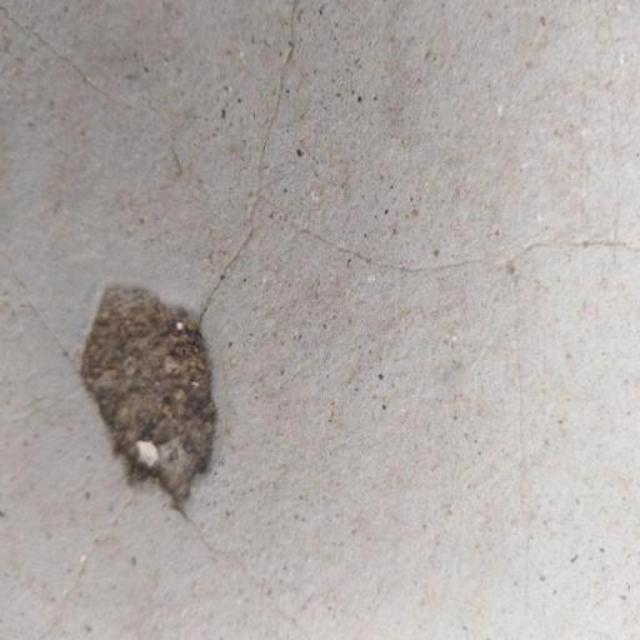D10: (78, 286, 221, 517)
